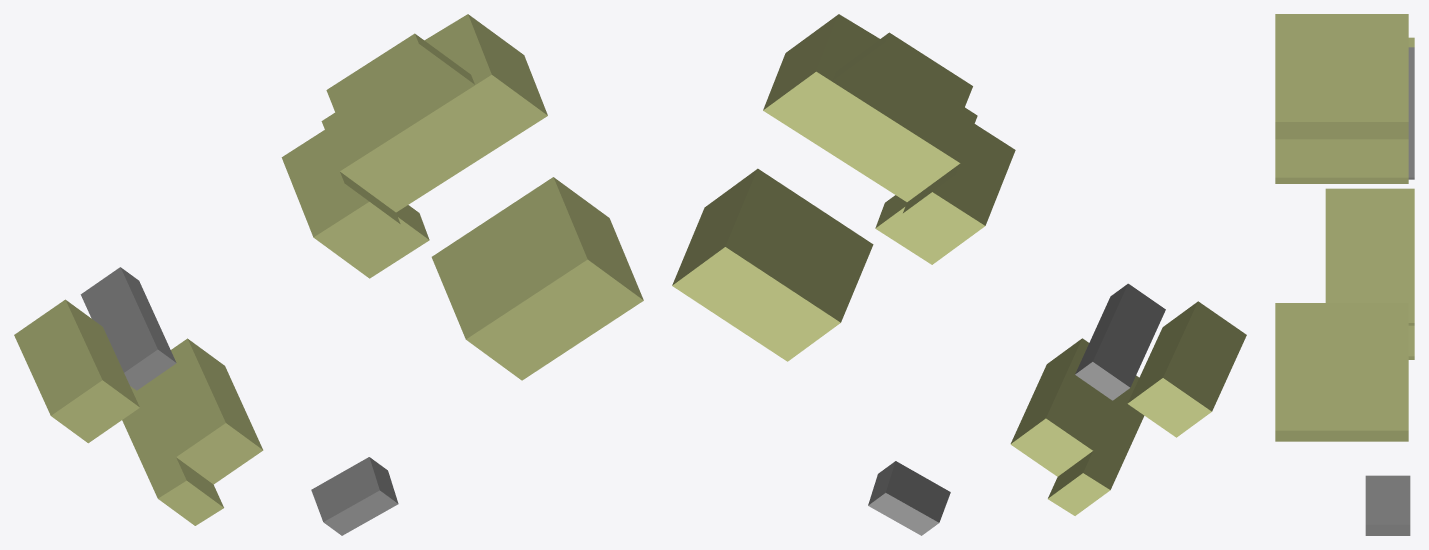
3 renders of one model, left to right at view 1: azimuth 30°, elevation 25°; view 2: azimuth 150°, elevation 25°; view 3: azimuth 270°, elevation 25°, orthographic. The views are drawn at different scales.
Visible parts, largest first — view 1: 0_1_0_2_0_0_3_2_1; view 2: 0_1_0_2_0_0_3_2_1; view 3: 0_1_0_2_0_0_3_2_1.
Part boxes in pixels (x1,y1,x2,y2): 0_1_0_2_0_0_3_2_1: (14,14,643,535); 0_1_0_2_0_0_3_2_1: (672,14,1246,535); 0_1_0_2_0_0_3_2_1: (1275,14,1414,535).
Size of the model in its own units: 52.77 by 41.81 by 9.4.
